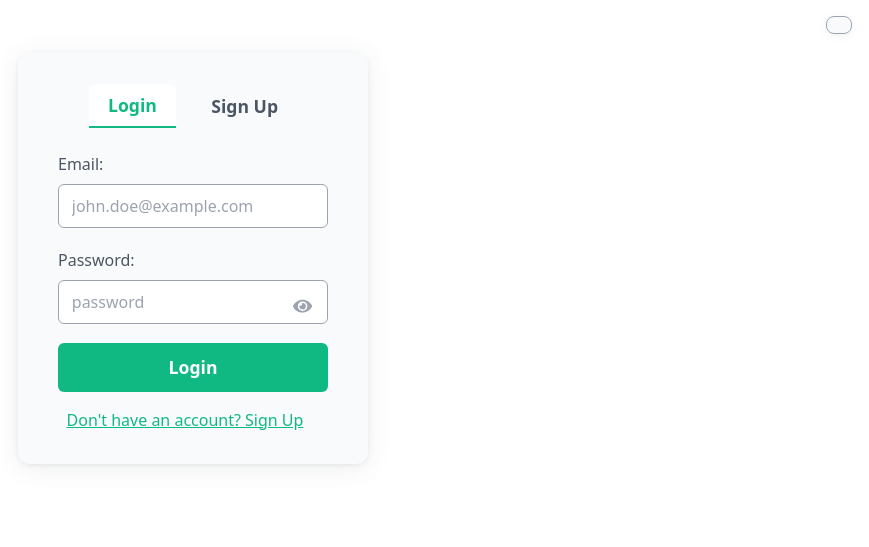
Test: App Component › shows error message when login fails
The image size is (869, 547).
Type "test@example.com" into the field labelled "Email:" at (193, 206), box [58,184,328,228]
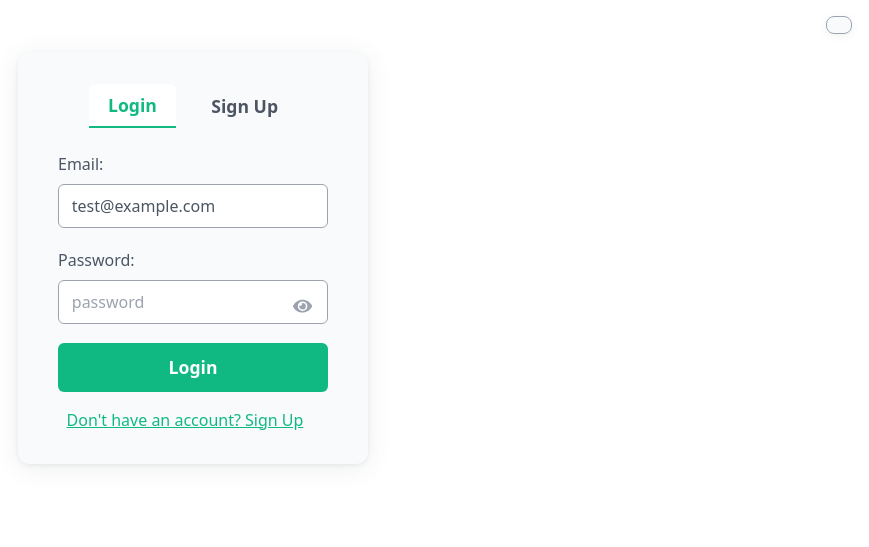
Type "wrongpassword" into the password field labelled "Password:" at (193, 302), box [58,280,328,324]
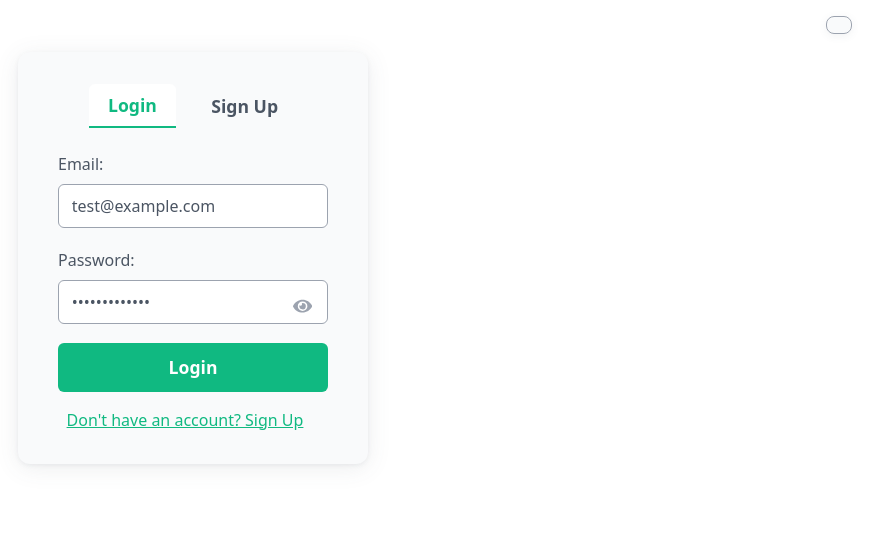
Click the button "Login" below "Password:" at (193, 367), box [58,343,328,392]
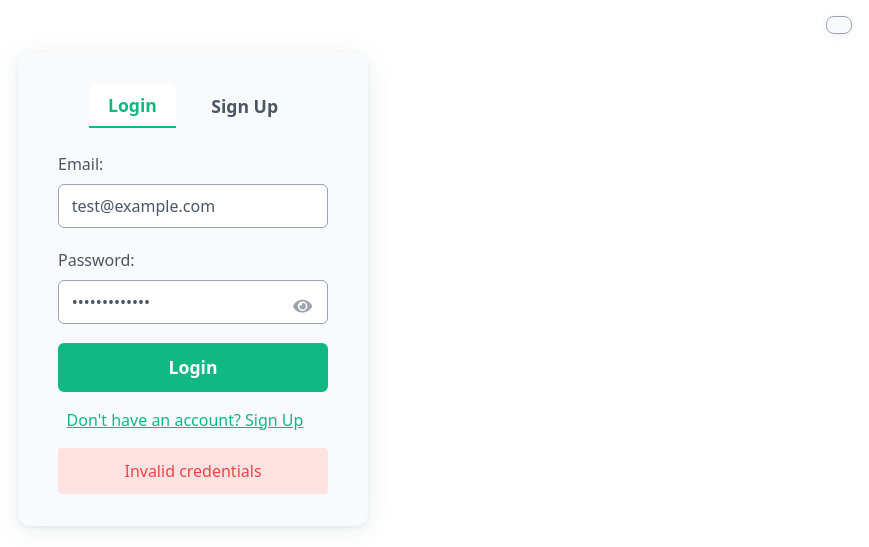
Now the text "Invalid credentials" is shown, box [58,448,328,494]
